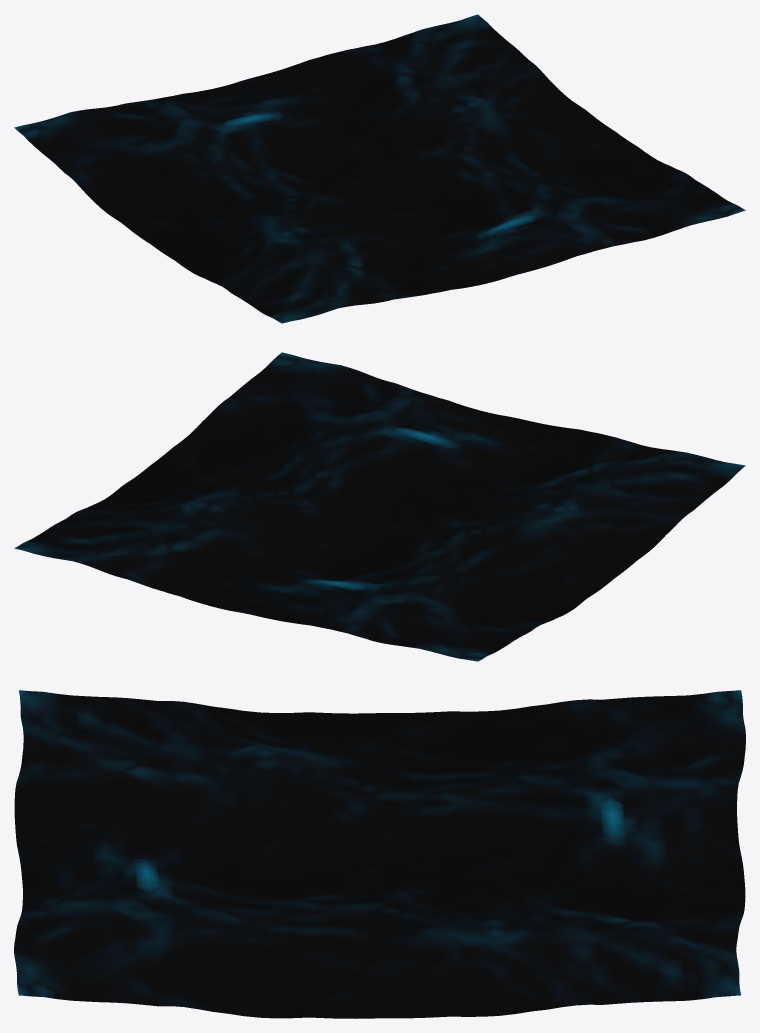
The model's file is Sea(5).glb.
The picture shows the model from 3 angles, top to bottom: view 1: azimuth 30°, elevation 25°; view 2: azimuth 150°, elevation 25°; view 3: azimuth 270°, elevation 25°; orthographic projection. The views are drawn at different scales.
Visible parts, largest first — view 1: Sea; view 2: Sea; view 3: Sea.
Boxes of the visible parts, left/top/right/bottom form: Sea: left=14, top=14, right=745, bottom=323; Sea: left=14, top=352, right=745, bottom=661; Sea: left=14, top=690, right=745, bottom=1018.
Bounding box in the file's own units: 50.39 × 1.83 × 50.66.
